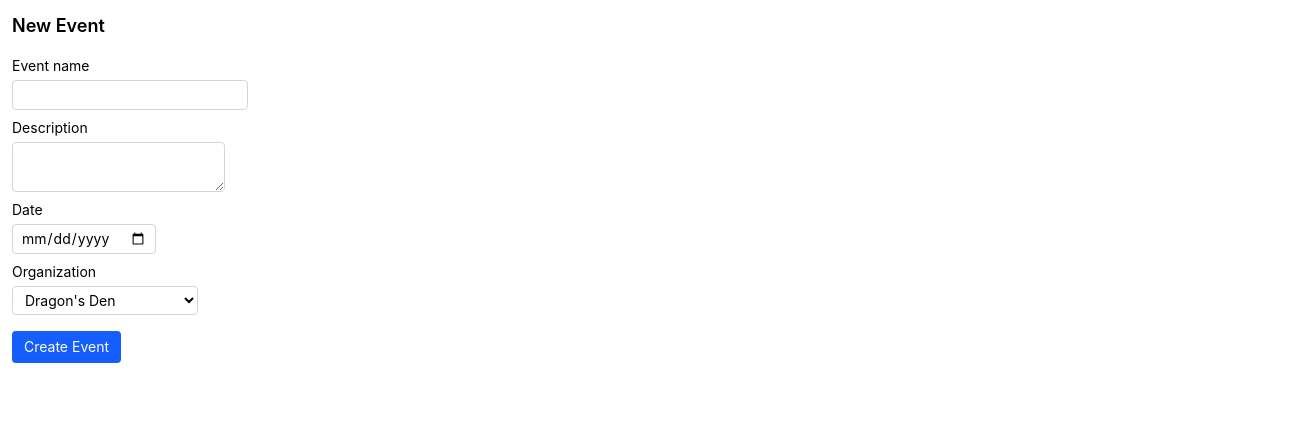
Scenario: NewEvent › surfaces a validation error from the backend
Type "Friday Standard" into the field labelled "Event name". click: (130, 95)
box: [12,80,248,110]
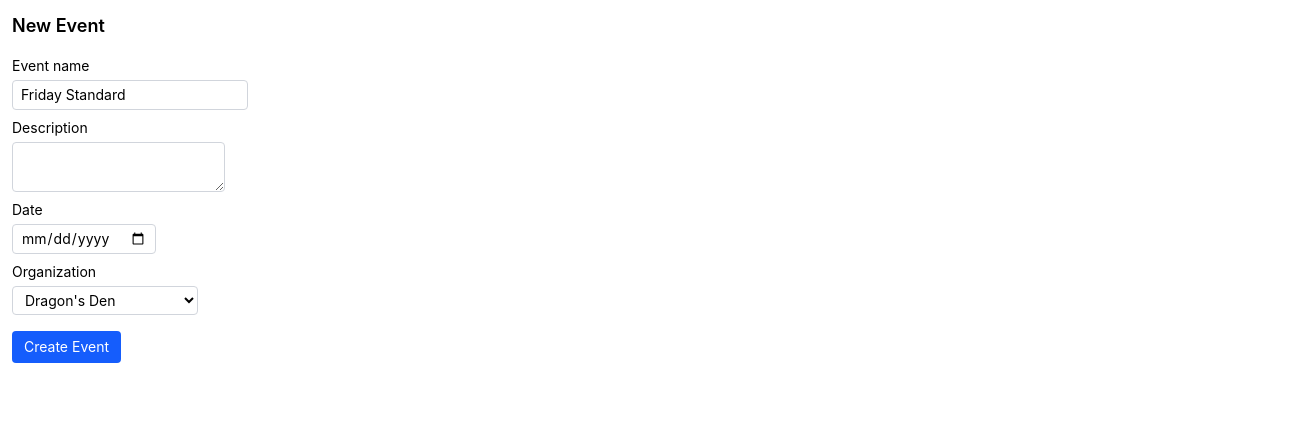
Type "2026-08-01" into the date field labelled "Date". click: (84, 239)
box: [12,224,156,254]
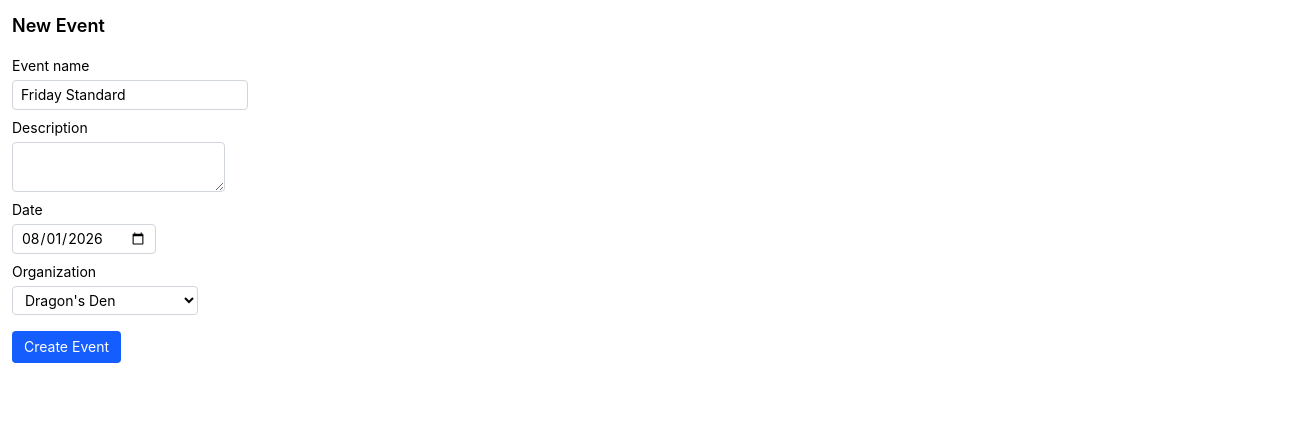
Click the button "Create Event". click: (66, 347)
box: [12,331,121,363]
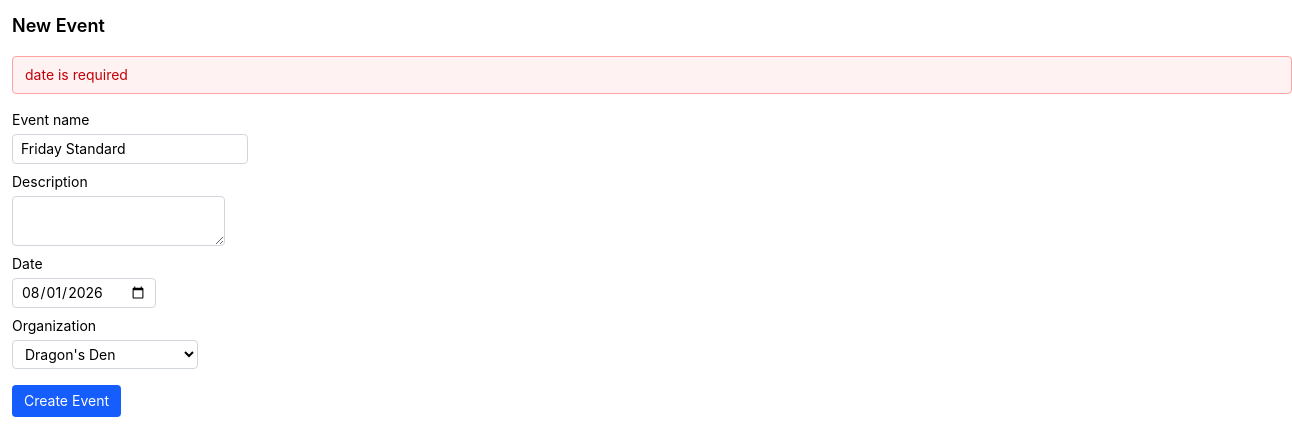
Now the message reads "date is required", box [25,66,128,83]
